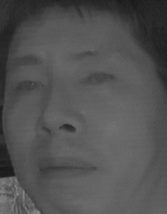mouth: (35, 152, 96, 184)
